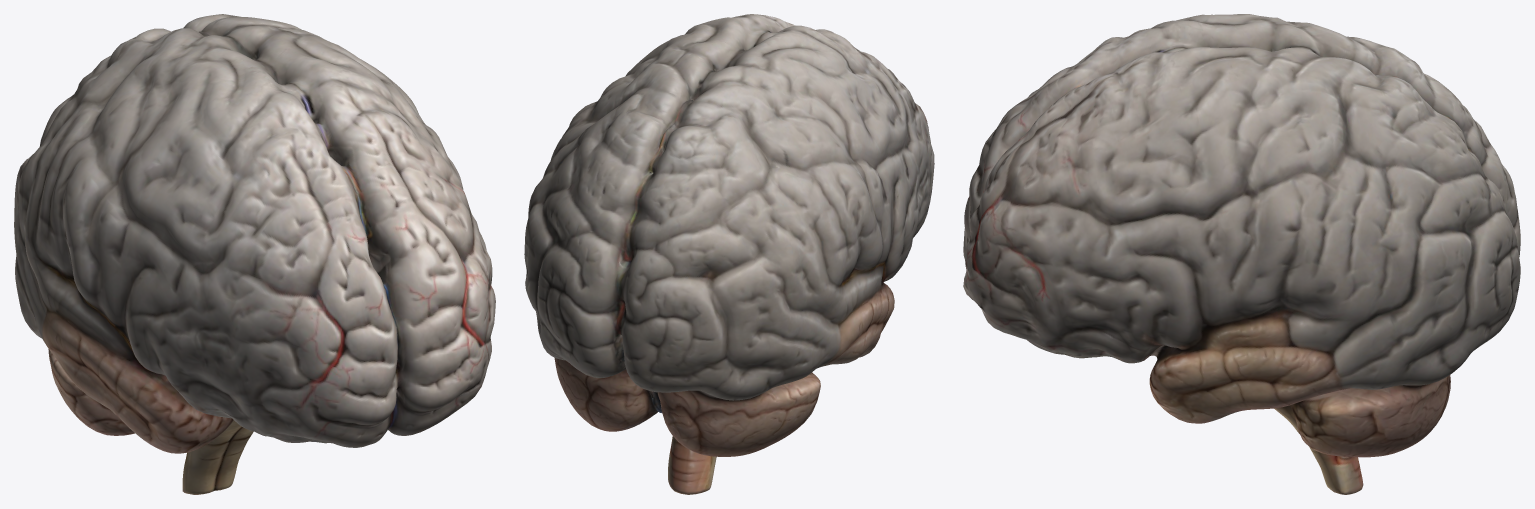
File: Demo2.glb
3 renders of one model, left to right at view 1: azimuth 30°, elevation 25°; view 2: azimuth 150°, elevation 25°; view 3: azimuth 270°, elevation 25°, orthographic. The views are drawn at different scales.
Parts seen in each view (by area): view 1: Stylized Human Brain; view 2: Stylized Human Brain; view 3: Stylized Human Brain.
Part boxes in pixels (<box>): Stylized Human Brain: <box>14,14,495,494</box>; Stylized Human Brain: <box>524,14,934,494</box>; Stylized Human Brain: <box>963,14,1520,494</box>.
Size of the model in its own units: 0.0676 by 0.0877 by 0.0982.
Materials: 1 (1 with a texture image).
